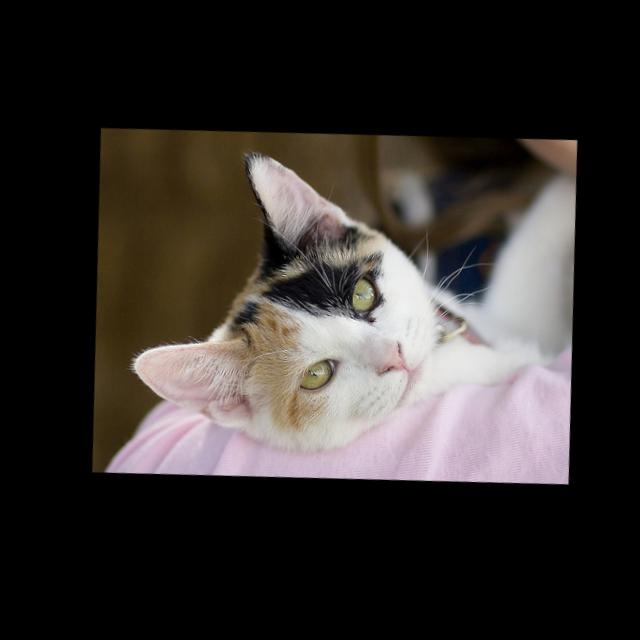animals: (122, 143, 418, 442)
